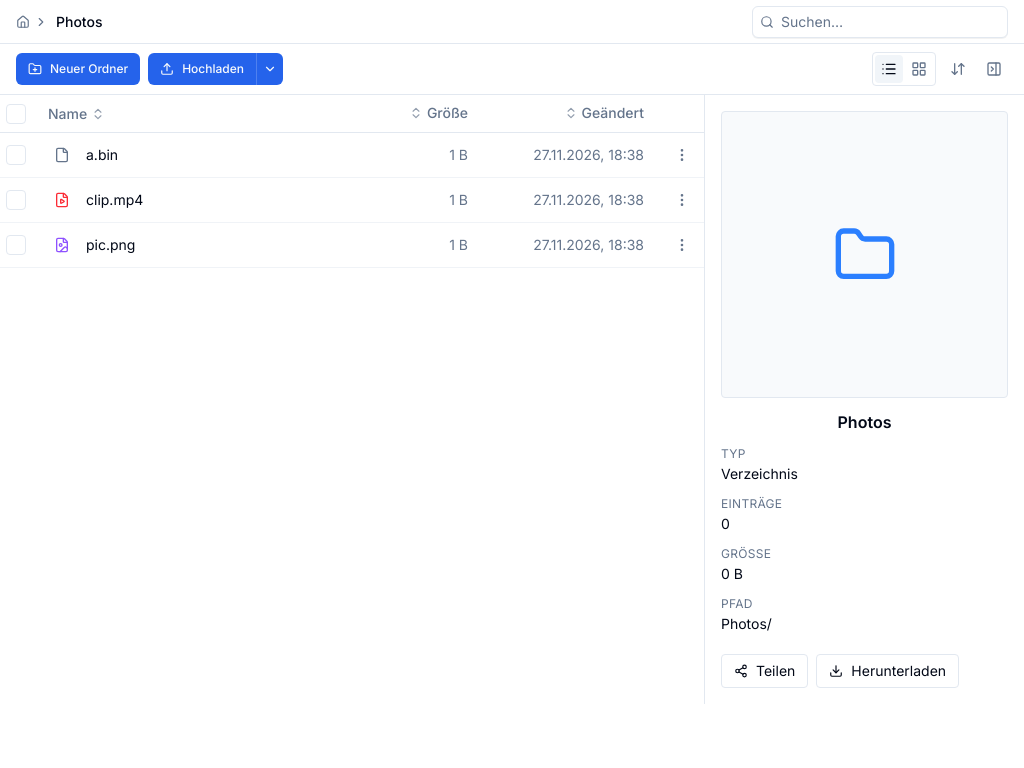
FilesPage — Vorschau › Doppelklick auf Video öffnet Galerie und sammelt Bilder+Videos
Double-click the text "clip.mp4" at point(115, 200), box [86,190,143,210]
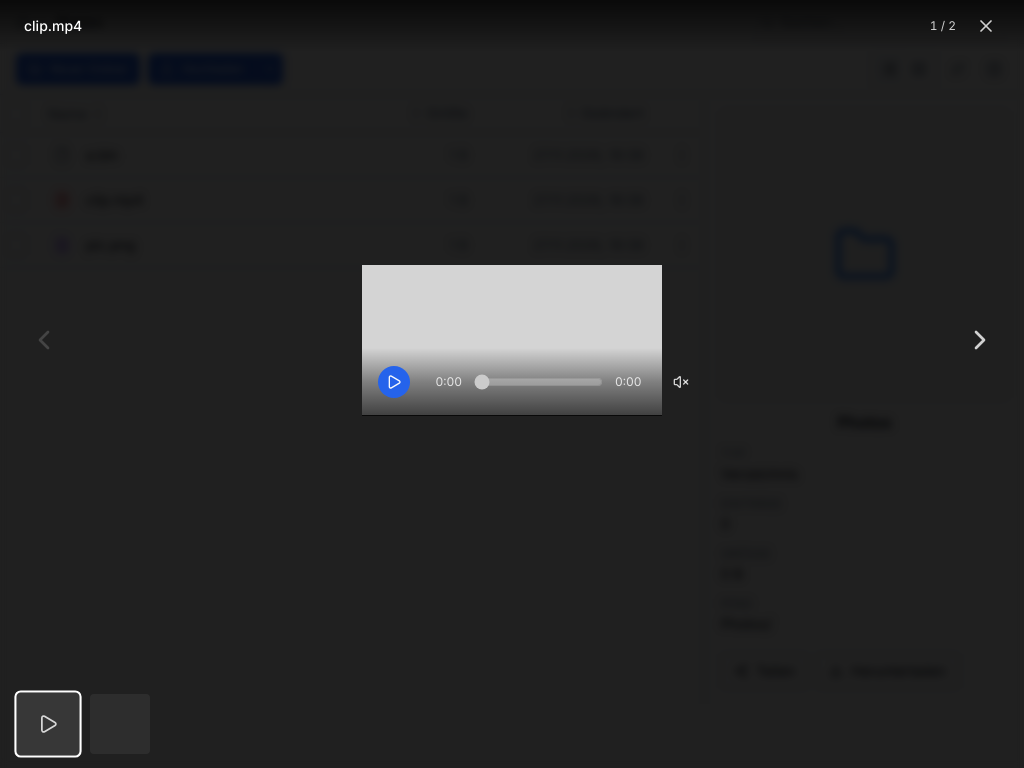
Check: the text "1 / 2" is shown, box [930,18,956,34]
